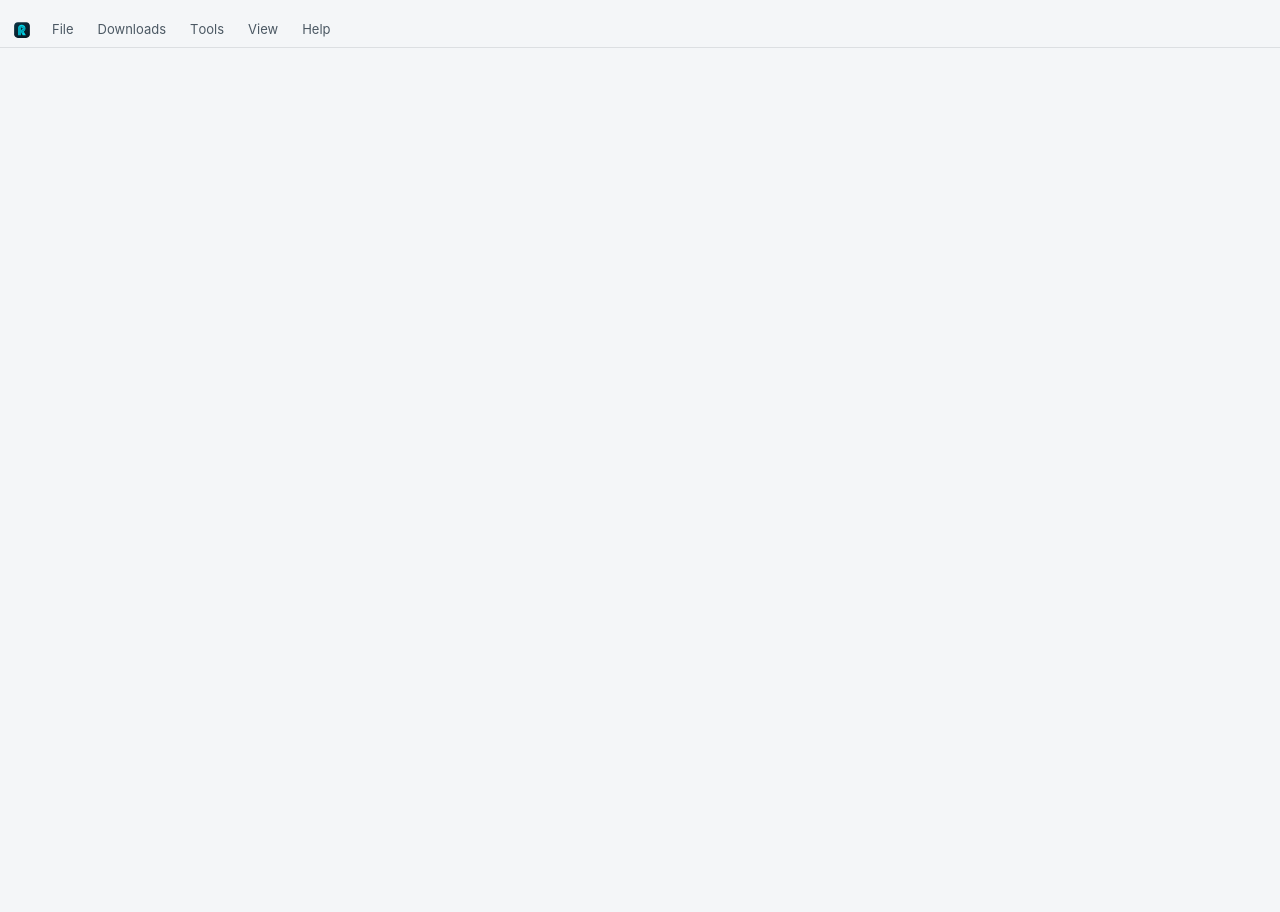
TitleBarComponent › in a plain browser › closes on a click outside the bar
The width and height of the screenshot is (1280, 912).
Click the menu item with class "top-button" showing "V iew" at (263, 30), box [236,16,290,44]
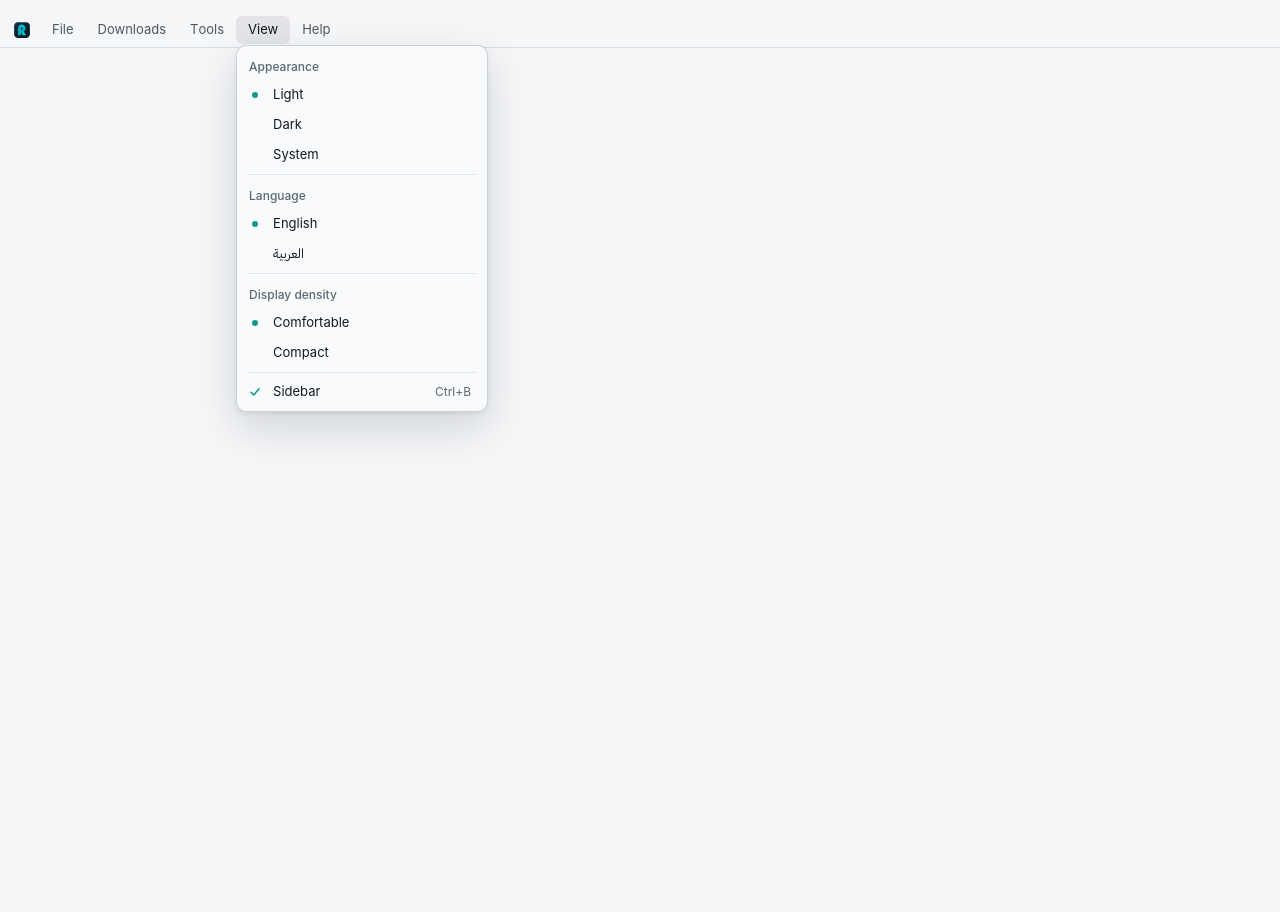
Now the menu is shown, box [236,45,488,412]
Press the mouse on the element that starts with "ile" at (640, 462), box [0,12,1279,911]
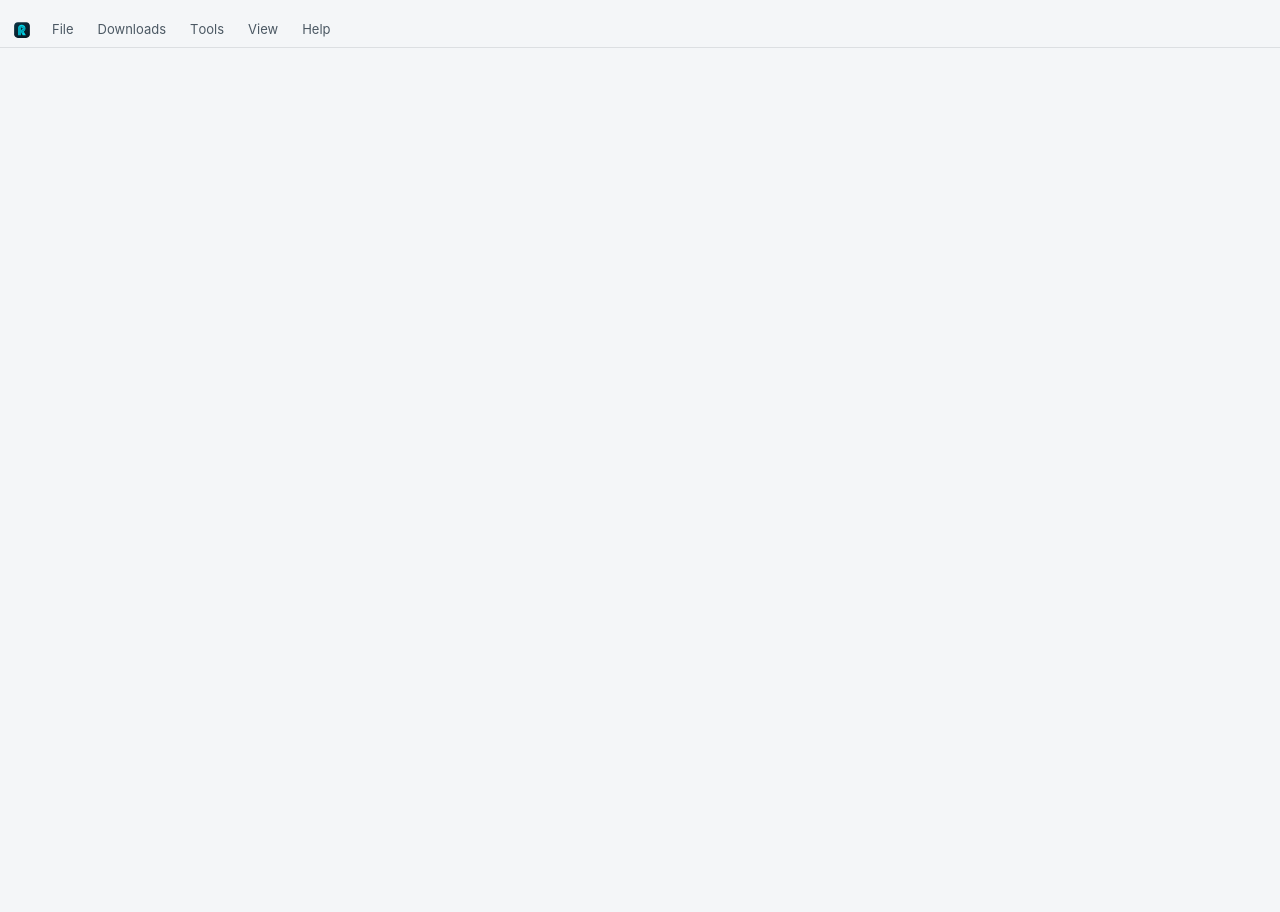
Now the menu is gone
